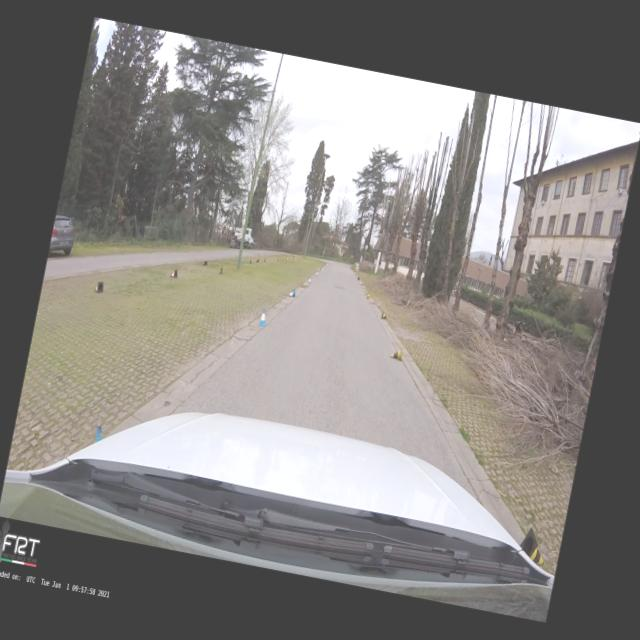blue_cone: (258, 309, 269, 327), (94, 425, 104, 444), (288, 288, 296, 298), (308, 278, 312, 284), (316, 272, 318, 276), (318, 268, 320, 272)
unknown_cone: (94, 281, 105, 294), (170, 268, 178, 278), (218, 264, 224, 274), (202, 261, 207, 266), (264, 258, 268, 262), (256, 258, 260, 262), (250, 258, 252, 264), (275, 258, 278, 262), (358, 278, 360, 280)
yellow_cone: (517, 526, 550, 566), (389, 346, 404, 360), (381, 312, 388, 320), (366, 294, 371, 300), (362, 282, 364, 288)
